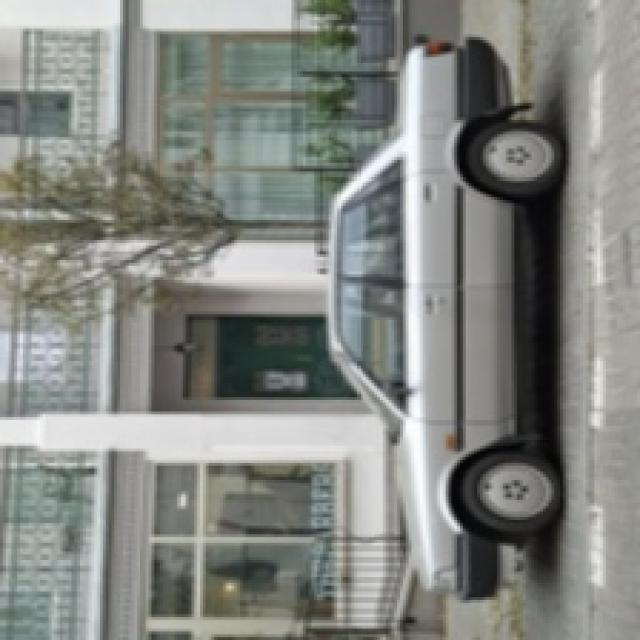car: (298, 33, 548, 587)
